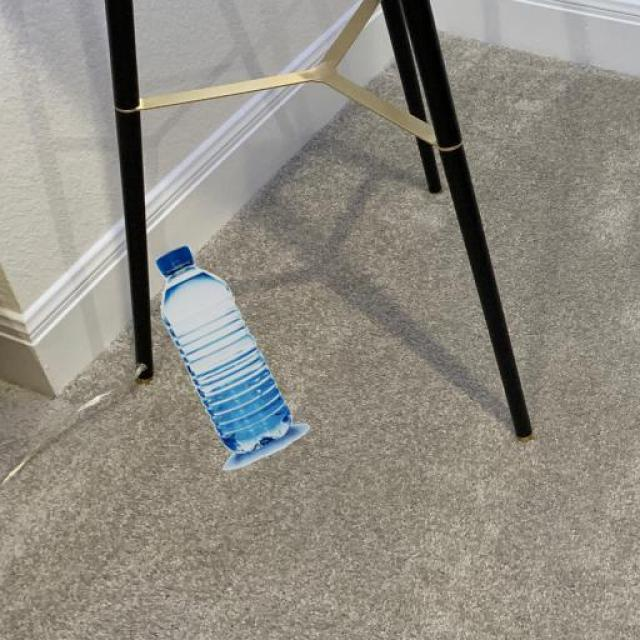bottle: (131, 241, 337, 481)
